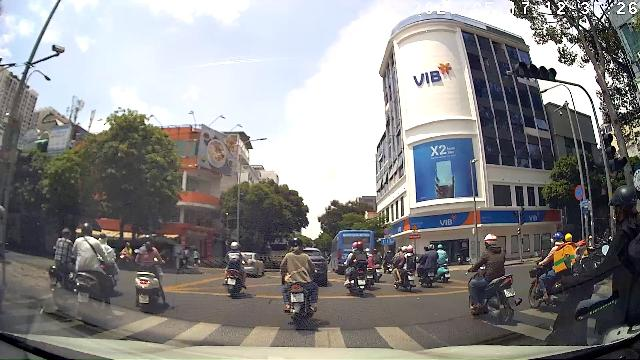131a-cam-do-xe: (574, 184, 584, 200)
